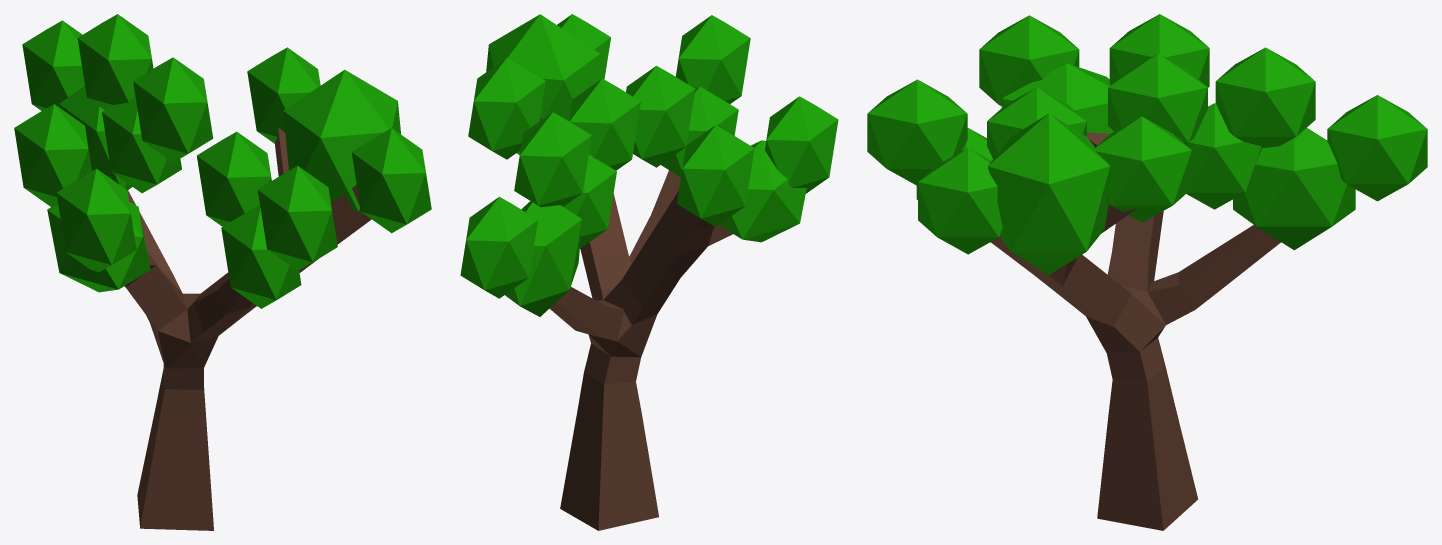
File: Tree2.fbx
3 renders of one model, left to right at view 1: azimuth 30°, elevation 25°; view 2: azimuth 150°, elevation 25°; view 3: azimuth 270°, elevation 25°, orthographic. The views are drawn at different scales.
Visible parts, largest first — view 1: Cube, Icosphere.009, Icosphere.002, Icosphere.004, Icosphere.011, Icosphere.008, Icosphere.012, Icosphere.001, Icosphere.003, Icosphere.006, Icosphere, Icosphere.010 (+3 smaller); view 2: Cube, Icosphere.009, Icosphere, Icosphere.012, Icosphere.001, Icosphere.010, Icosphere.005, Icosphere.008, Icosphere.003, Icosphere.004, Icosphere.013, Icosphere.002 (+3 smaller); view 3: Cube, Icosphere.009, Icosphere.005, Icosphere, Icosphere.001, Icosphere.004, Icosphere.010, Icosphere.011, Icosphere.002, Icosphere.008, Icosphere.007, Icosphere.012 (+2 smaller).
Boxes of the visible parts, x1=… form: Cube: x1=124, y1=127, x2=371, y2=530; Icosphere.009: x1=283, y1=69, x2=400, y2=211; Icosphere.002: x1=133, y1=57, x2=213, y2=162; Icosphere.004: x1=257, y1=165, x2=337, y2=270; Icosphere.011: x1=352, y1=128, x2=431, y2=233; Icosphere.008: x1=56, y1=168, x2=136, y2=272; Icosphere.012: x1=14, y1=104, x2=91, y2=206; Icosphere.001: x1=77, y1=14, x2=153, y2=109; Icosphere.003: x1=197, y1=131, x2=271, y2=226; Icosphere.006: x1=221, y1=204, x2=301, y2=308; Icosphere: x1=22, y1=20, x2=84, y2=110; Icosphere.010: x1=247, y1=47, x2=320, y2=143; Cube: x1=520, y1=117, x2=732, y2=530; Icosphere.009: x1=486, y1=14, x2=599, y2=154; Icosphere: x1=460, y1=196, x2=537, y2=298; Icosphere.012: x1=677, y1=125, x2=754, y2=226; Icosphere.001: x1=514, y1=112, x2=591, y2=207; Icosphere.010: x1=468, y1=58, x2=545, y2=159; Icosphere.005: x1=505, y1=201, x2=582, y2=316; Icosphere.008: x1=765, y1=96, x2=838, y2=193; Icosphere.003: x1=626, y1=66, x2=695, y2=167; Icosphere.004: x1=675, y1=15, x2=750, y2=103; Icosphere.013: x1=720, y1=140, x2=806, y2=242; Icosphere.002: x1=569, y1=78, x2=640, y2=170; Cube: x1=989, y1=132, x2=1280, y2=530; Icosphere.009: x1=988, y1=113, x2=1110, y2=274; Icosphere.005: x1=1233, y1=128, x2=1355, y2=250; Icosphere: x1=1327, y1=95, x2=1427, y2=201; Icosphere.001: x1=1215, y1=47, x2=1315, y2=148; Icosphere.004: x1=867, y1=79, x2=967, y2=185; Icosphere.010: x1=1093, y1=116, x2=1191, y2=222; Icosphere.011: x1=918, y1=148, x2=1002, y2=254; Icosphere.002: x1=1108, y1=53, x2=1207, y2=144; Icosphere.008: x1=979, y1=15, x2=1079, y2=106; Icosphere.007: x1=1186, y1=103, x2=1262, y2=209; Icosphere.012: x1=1109, y1=14, x2=1209, y2=87.
Size of the model in its own units: 996 by 1279 by 1397.
